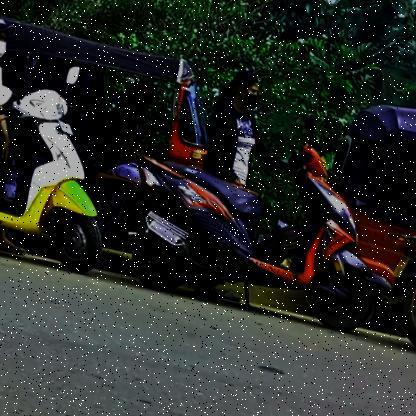motorcycle: (116, 108, 380, 344), (0, 63, 110, 289)
